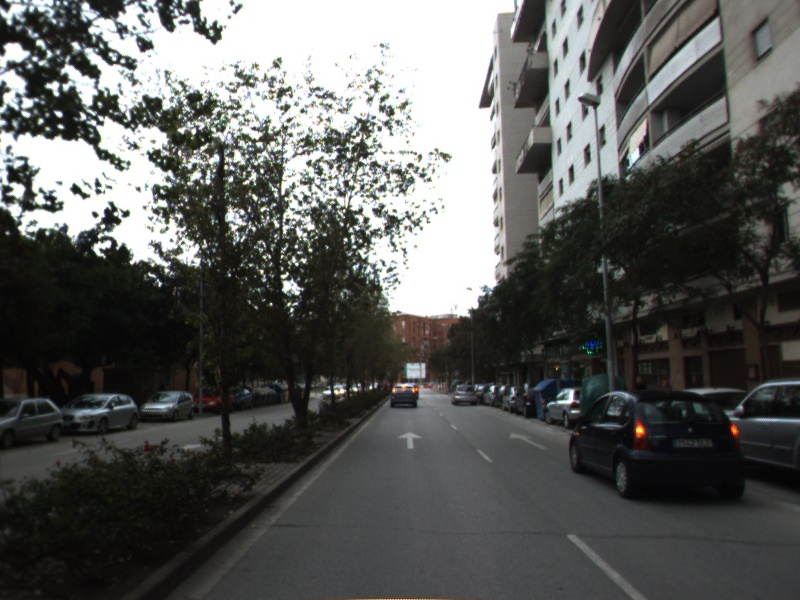STRAIGHT: (508, 430, 551, 452), (395, 430, 425, 451)
